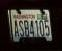0: (38, 20, 45, 36)
1: (34, 19, 39, 36)
4: (29, 19, 35, 37)
5: (43, 19, 50, 36)
A: (14, 19, 19, 37)
B: (23, 19, 30, 37)
S: (18, 19, 25, 36)
